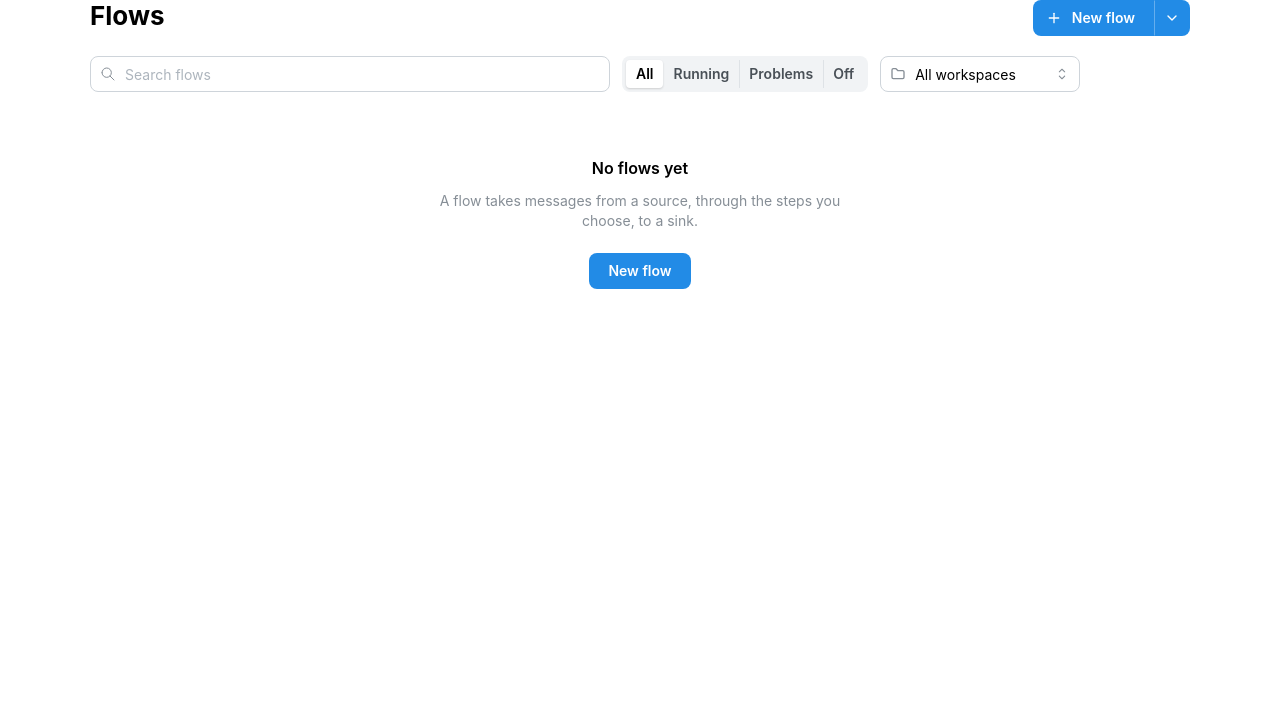
Scenario: Sample library import › reports a refused import as a failure
Step 1. Click the button named "More ways to make a flow" → {"x": 1172, "y": 18}, box left=1154, top=0, right=1190, bottom=36
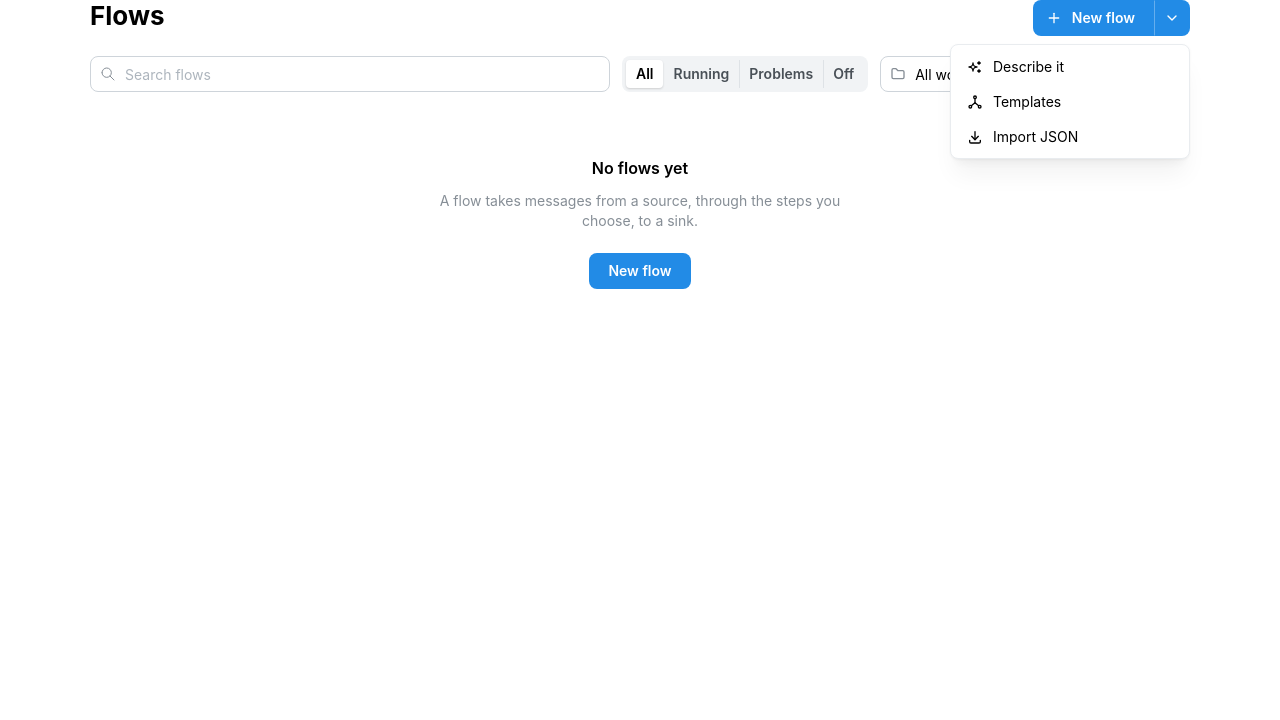
Step 2. Click the menu item "Templates" → {"x": 1070, "y": 102}, box left=955, top=84, right=1185, bottom=119
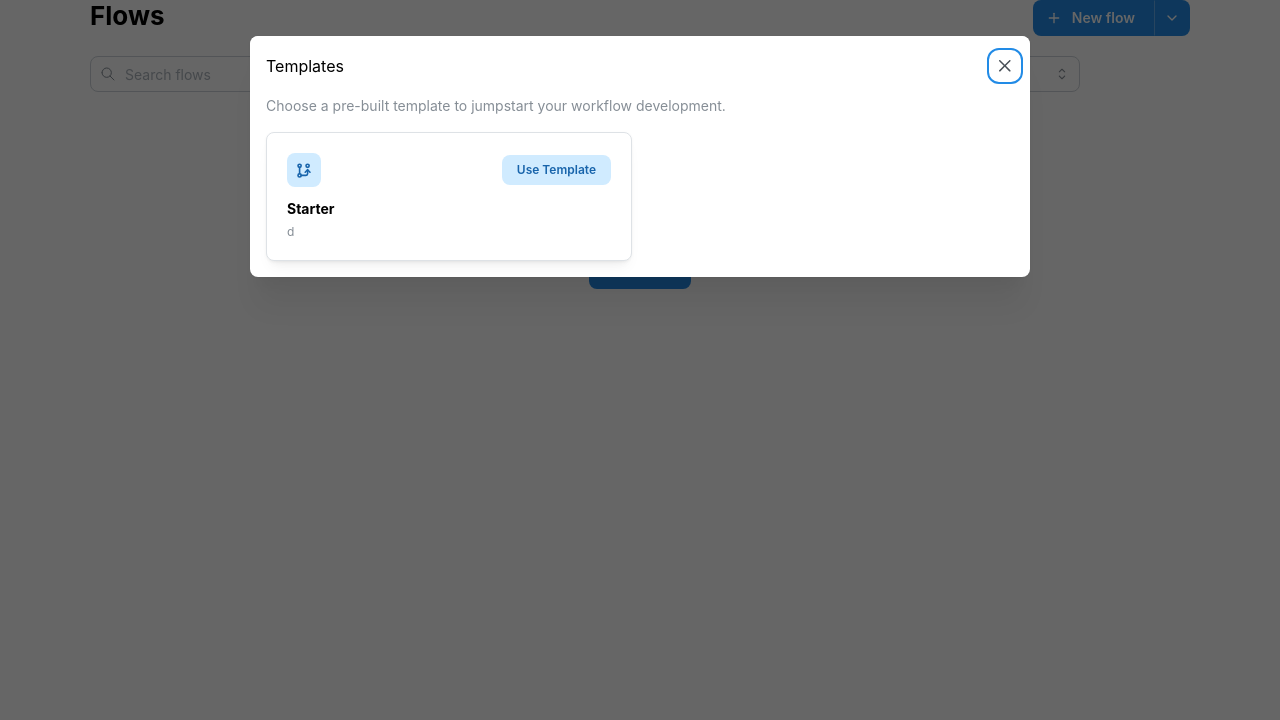
Step 3. Click the button "Use Template" → {"x": 556, "y": 170}, box left=502, top=155, right=611, bottom=185
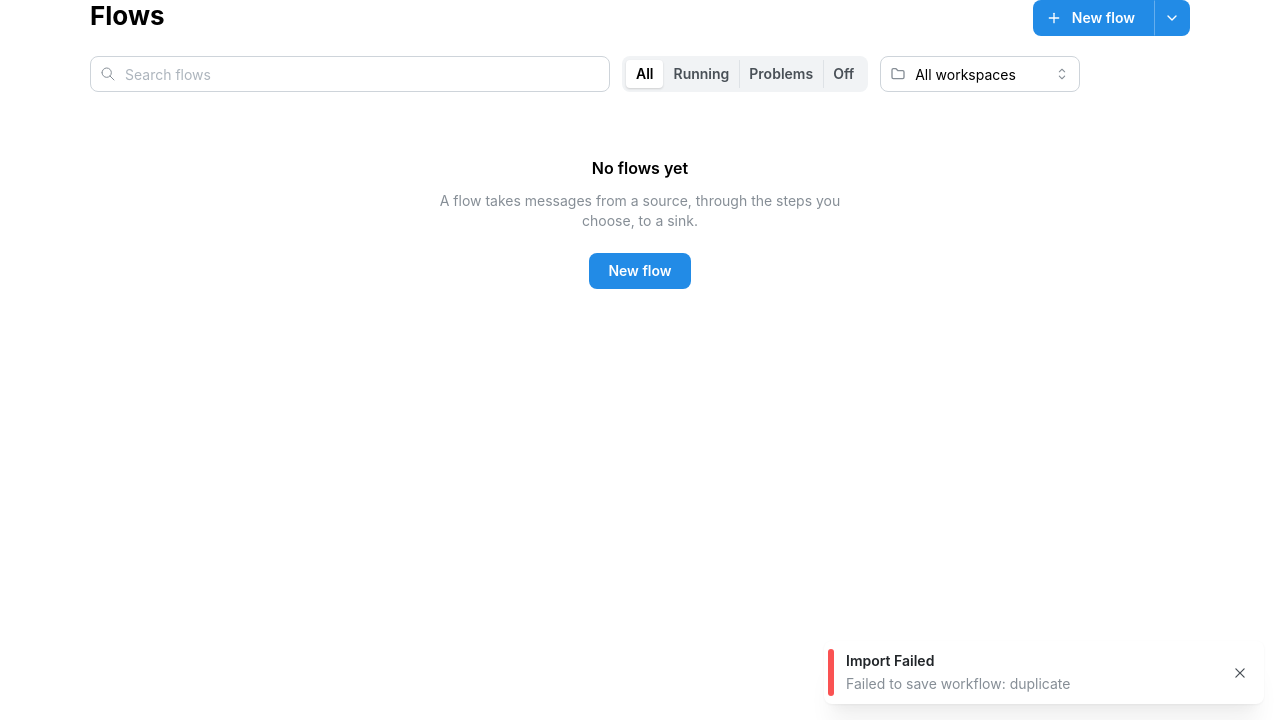
Expected: the text "Import Failed" is shown, left=846, top=652, right=934, bottom=669
Expected: the text "Failed to save workflow: duplicate" is shown, left=846, top=675, right=1070, bottom=692
